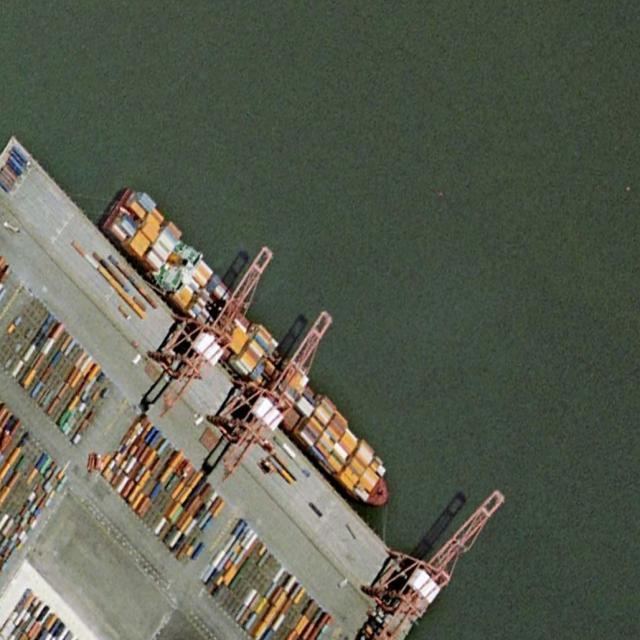Container Ship: (97, 174, 407, 526)
